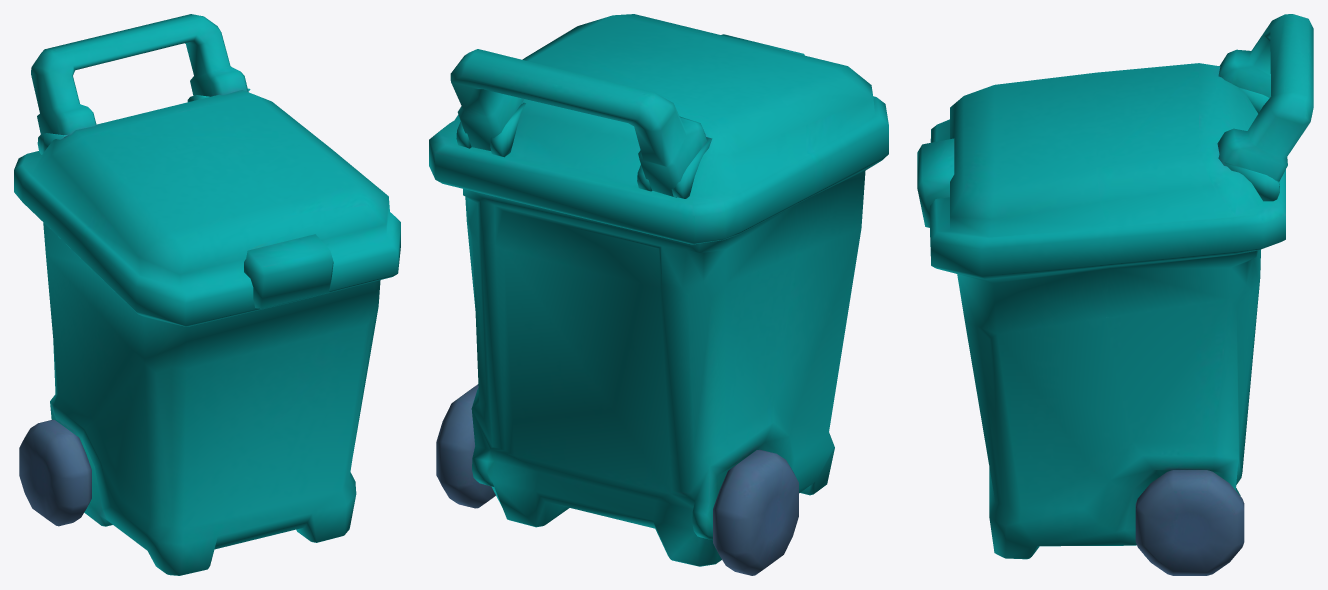
Rendered from PROP_BIN_A01.glb.
3 views of the same model, side by side, from view 1: azimuth 30°, elevation 25°; view 2: azimuth 150°, elevation 25°; view 3: azimuth 270°, elevation 25° (orthographic). The views are drawn at different scales.
Parts seen in each view (by area): view 1: tripo_node_2658a55f-bc99-481b-a8f3-456eab10a511; view 2: tripo_node_2658a55f-bc99-481b-a8f3-456eab10a511; view 3: tripo_node_2658a55f-bc99-481b-a8f3-456eab10a511.
Boxes of the visible parts, <box> form: tripo_node_2658a55f-bc99-481b-a8f3-456eab10a511: <box>14,14,400,575</box>; tripo_node_2658a55f-bc99-481b-a8f3-456eab10a511: <box>429,14,888,575</box>; tripo_node_2658a55f-bc99-481b-a8f3-456eab10a511: <box>917,14,1313,575</box>.
Size of the model in its own units: 0.6582 by 0.998 by 0.7832.
Materials: 1 (1 with a texture image).
